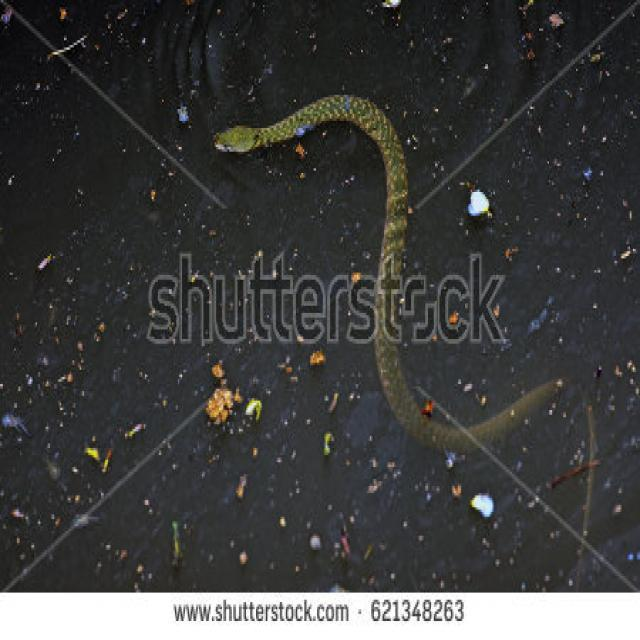Snake: (212, 90, 566, 465)
